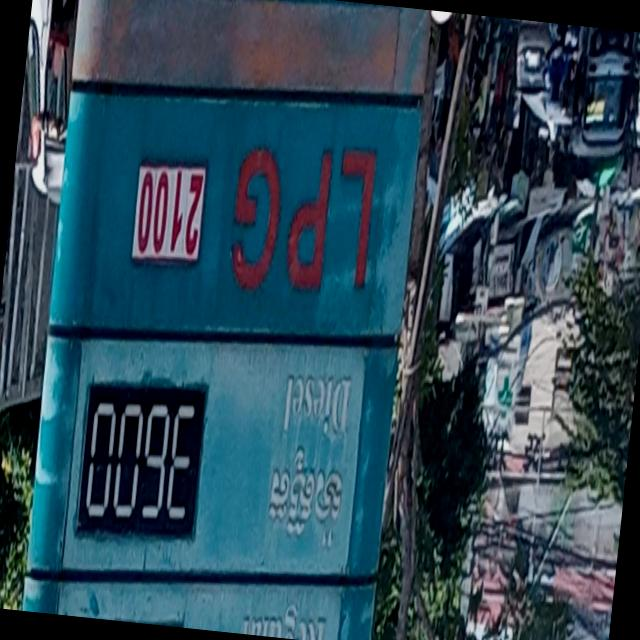659: (119, 119, 217, 264)
729: (68, 364, 208, 539)
Yolov11kh: (262, 440, 352, 560)
